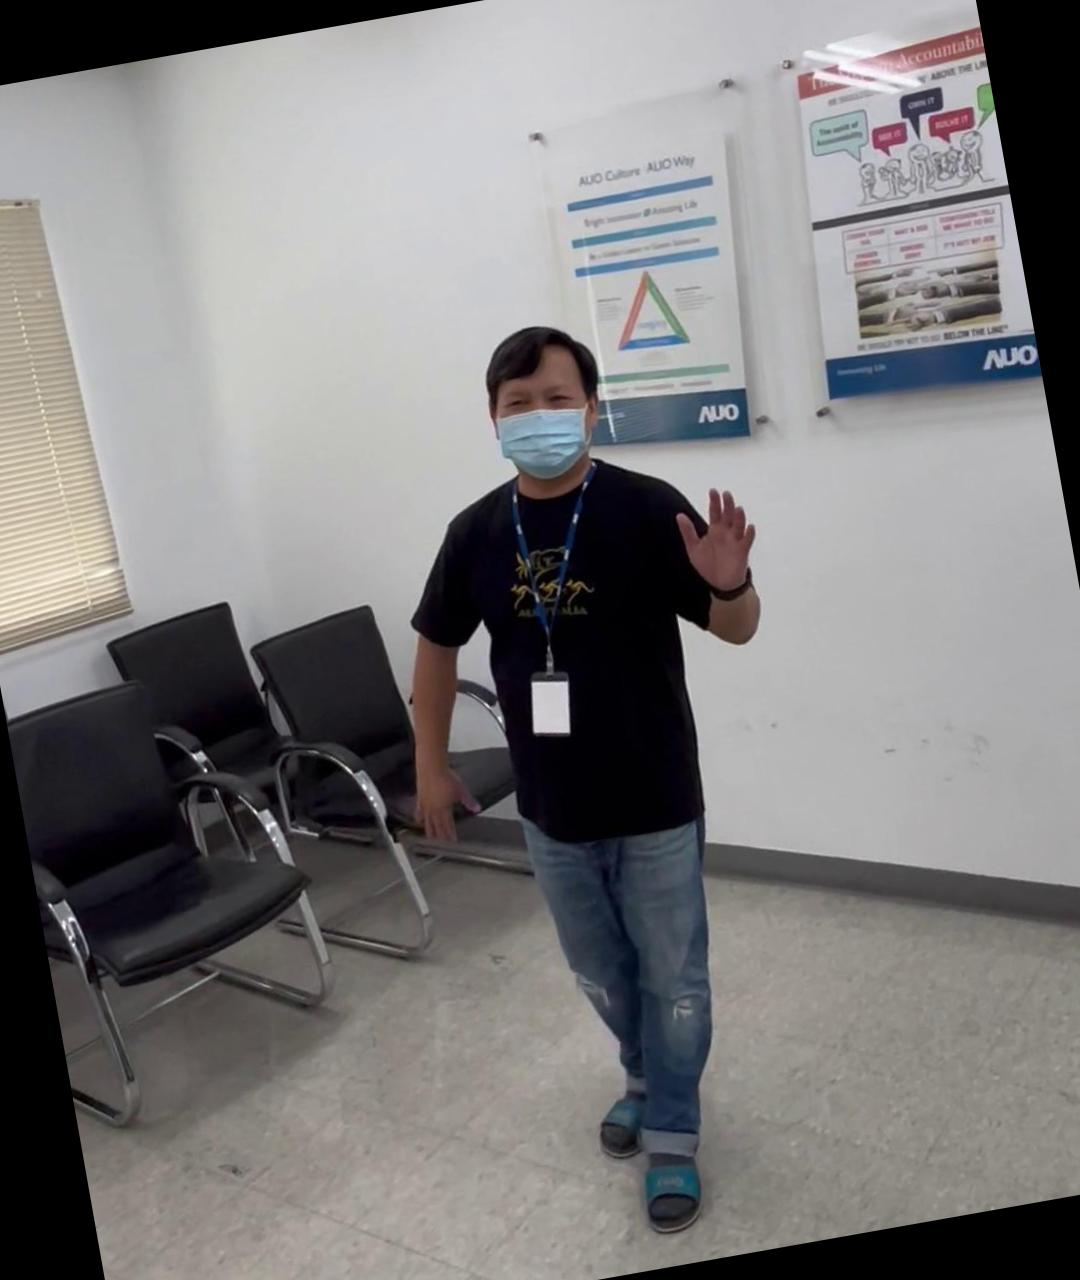No-gloves: (669, 475, 764, 599), (394, 749, 484, 856)
